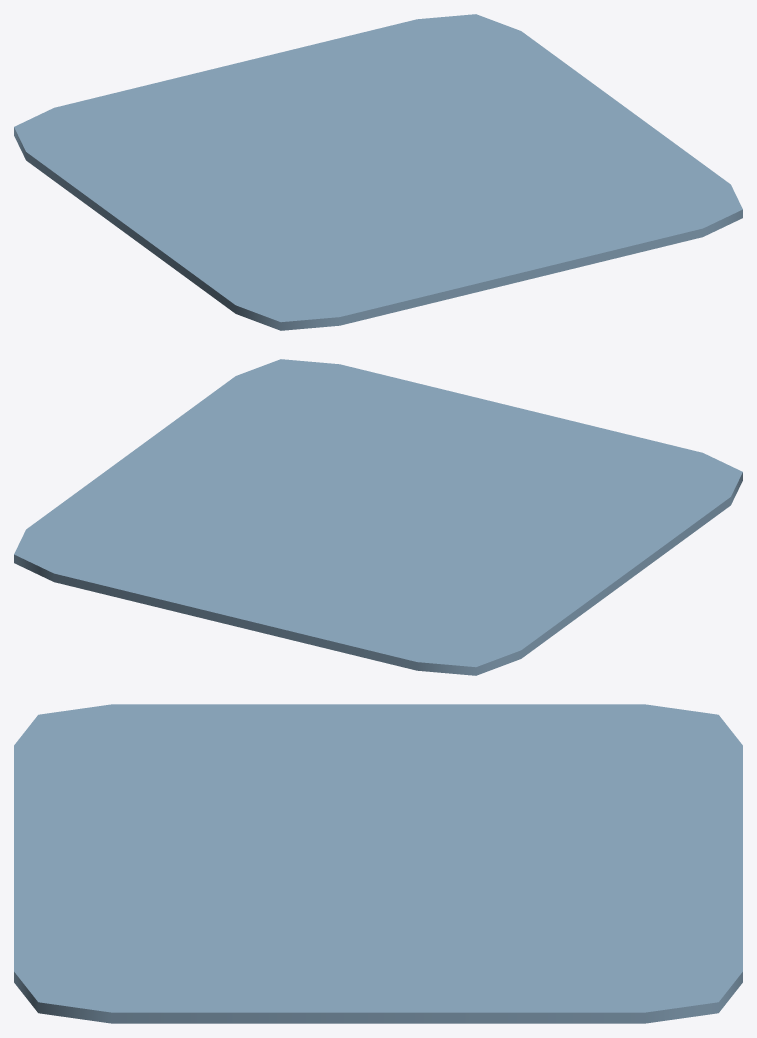
Rendered from carpet-rectangle-solid-square.glb.
3 renders of one model, top to bottom at view 1: azimuth 30°, elevation 25°; view 2: azimuth 150°, elevation 25°; view 3: azimuth 270°, elevation 25°, orthographic. The views are drawn at different scales.
Parts seen in each view (by area): view 1: carpet-rectangle-solid-square; view 2: carpet-rectangle-solid-square; view 3: carpet-rectangle-solid-square.
Boxes of the visible parts, x1=… form: carpet-rectangle-solid-square: x1=14, y1=14, x2=742, y2=330; carpet-rectangle-solid-square: x1=14, y1=359, x2=742, y2=675; carpet-rectangle-solid-square: x1=14, y1=704, x2=742, y2=1023.
Size of the model in its own units: 1.5 by 0.025 by 1.5.
